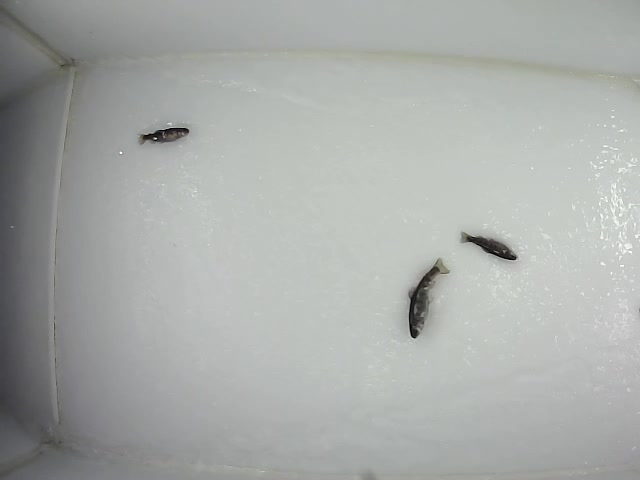fish: (403, 256, 450, 339), (459, 228, 519, 264), (135, 125, 190, 145)
